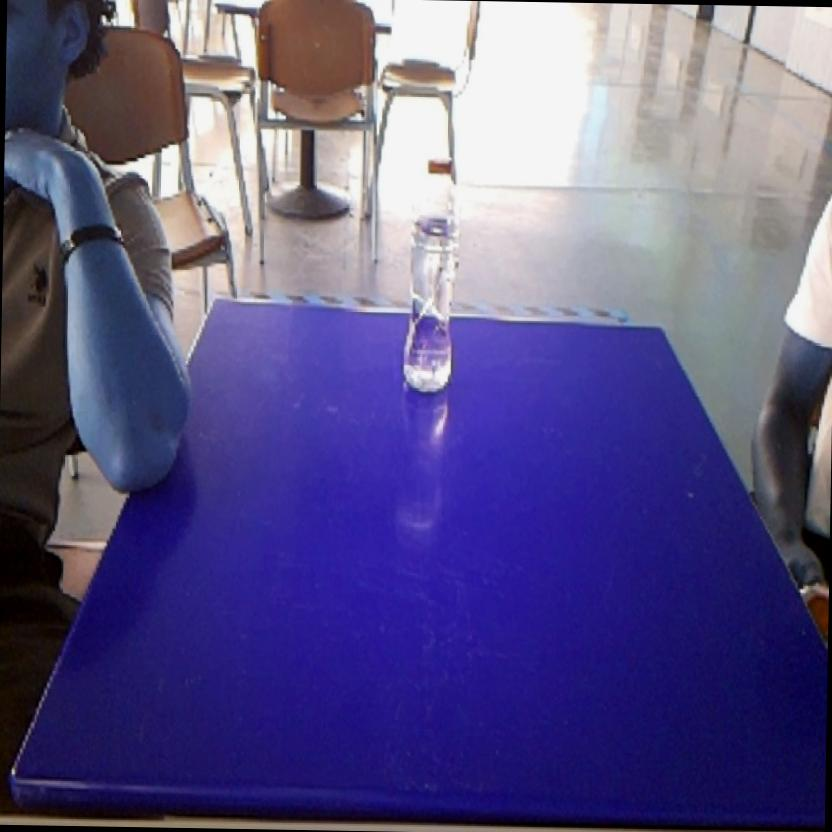no_label: (395, 148, 469, 403)
